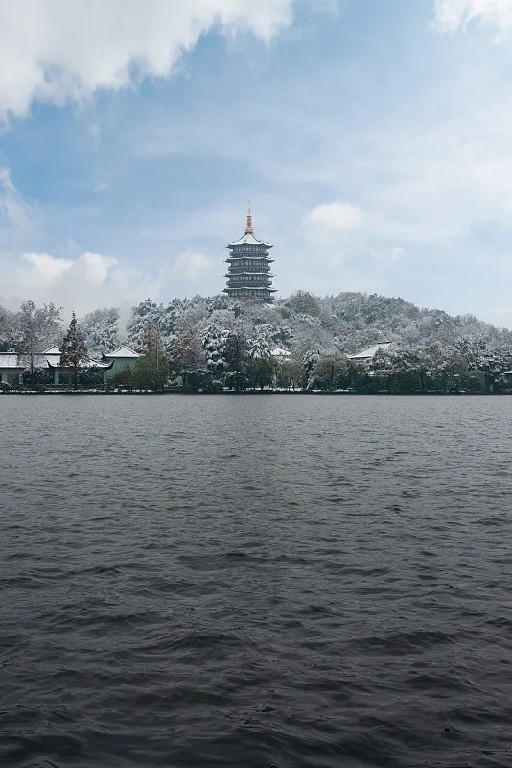Leifeng: (220, 197, 280, 305)
